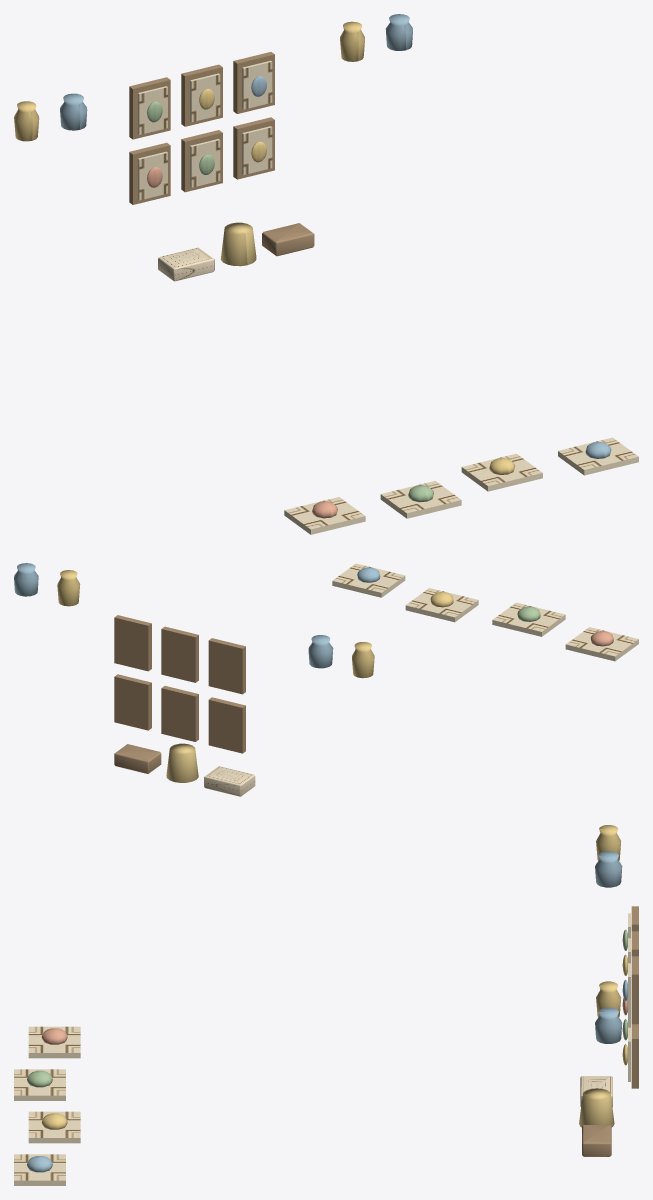
Rendered from memory_props.glb.
The picture shows the model from 3 angles, top to bottom: view 1: azimuth 30°, elevation 25°; view 2: azimuth 150°, elevation 25°; view 3: azimuth 270°, elevation 25°; orthographic projection. The views are drawn at different scales.
Parts seen in each view (by area): view 1: Memory_Props_Set; view 2: Memory_Props_Set; view 3: Memory_Props_Set.
Part boxes in pixels (<box>): Memory_Props_Set: <box>14,14,638,534</box>; Memory_Props_Set: <box>14,563,638,796</box>; Memory_Props_Set: <box>14,825,638,1185</box>.
Size of the model in its own units: 3.03 by 1.55 by 4.22.
7 materials, 1 textured.
